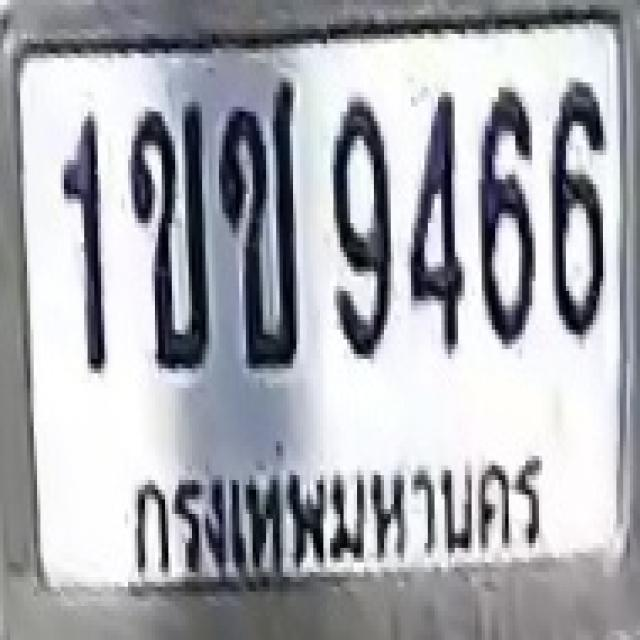-: (219, 75, 296, 366), (126, 99, 207, 366)
1: (60, 109, 104, 376)
4: (407, 85, 465, 351)
6: (477, 83, 534, 344), (549, 78, 603, 334)
9: (330, 90, 391, 356)
BKK: (118, 428, 552, 584)
